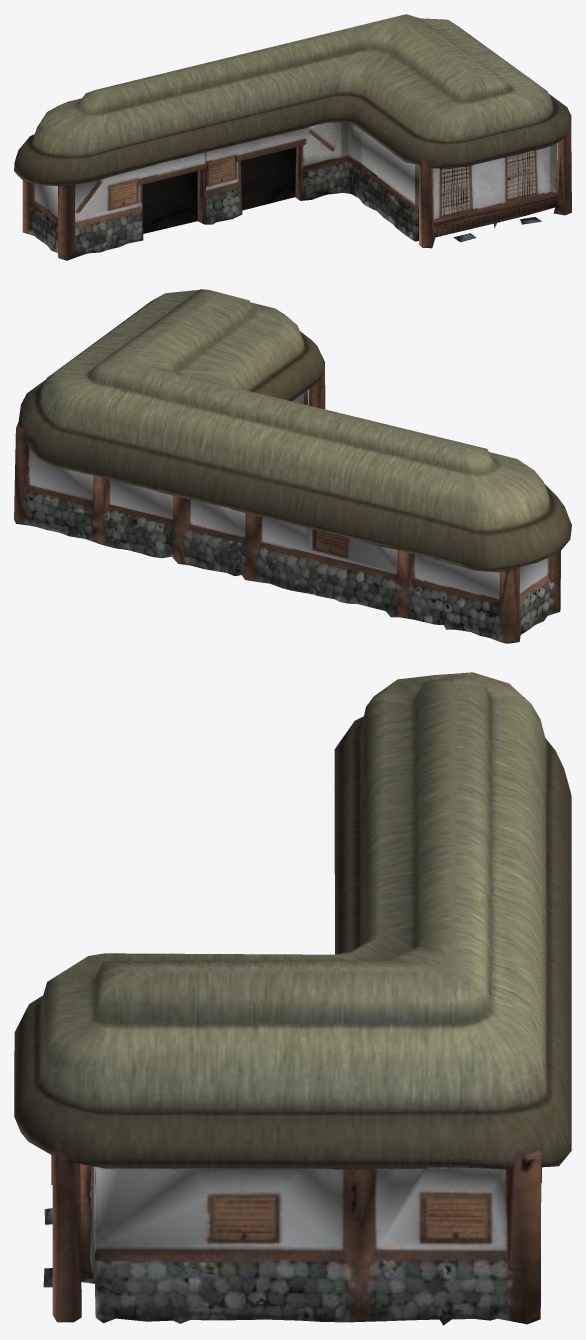
Rendered from house-L_high.glb.
The picture shows the model from 3 angles, top to bottom: view 1: azimuth 30°, elevation 25°; view 2: azimuth 150°, elevation 25°; view 3: azimuth 270°, elevation 25°; orthographic projection. The views are drawn at different scales.
Parts seen in each view (by area): view 1: house_L_lod0_tri75; view 2: house_L_lod0_tri75; view 3: house_L_lod0_tri75.
Part boxes in pixels (x1,y1,x2,y2): house_L_lod0_tri75: [14, 14, 571, 260]; house_L_lod0_tri75: [14, 289, 571, 643]; house_L_lod0_tri75: [14, 672, 571, 1325].
Size of the model in its own units: 14.12 by 4.14 by 7.38.
Materials: 1 (1 with a texture image).
